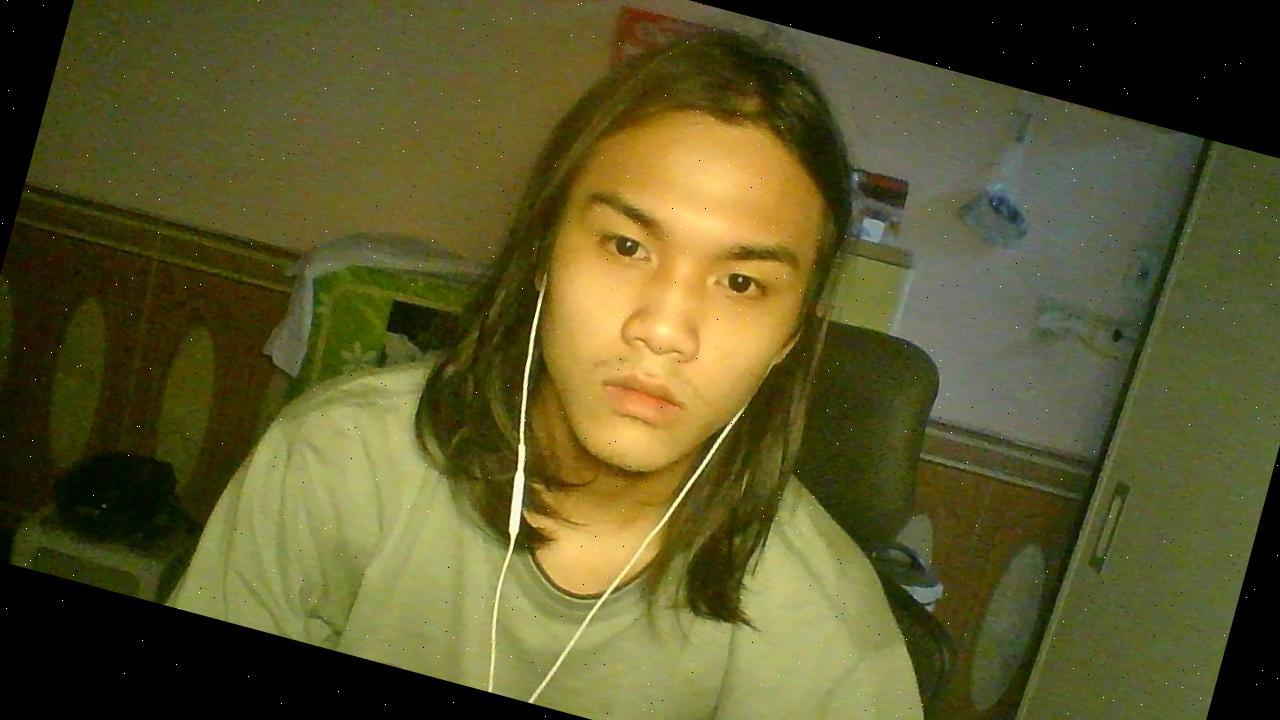Awake: (506, 26, 834, 488)
